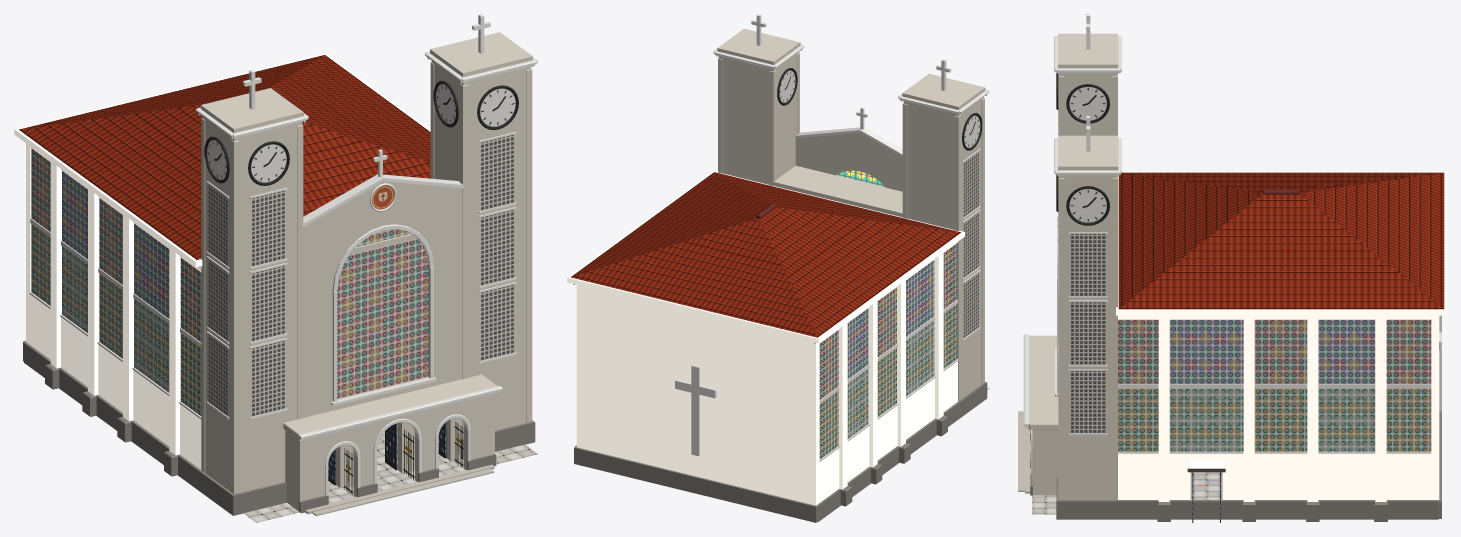
Rendered from cuiaba-catedral-bom-jesus.glb.
3 renders of one model, left to right at view 1: azimuth 30°, elevation 25°; view 2: azimuth 150°, elevation 25°; view 3: azimuth 270°, elevation 25°, orthographic. The views are drawn at different scales.
Size of what is drawn, in the model's own units: 15.25 by 19.08 by 19.19.
Materials: 79 (36 with a texture image).
